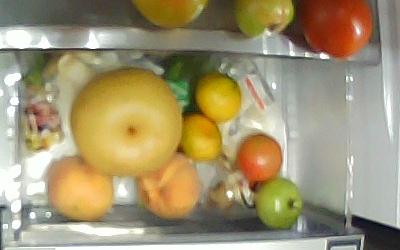peach: (136, 152, 202, 222), (46, 156, 114, 222)
pear: (71, 67, 183, 177)
tangerine: (193, 72, 242, 123), (179, 113, 223, 162)
tomato: (255, 177, 303, 231), (238, 134, 283, 182)
